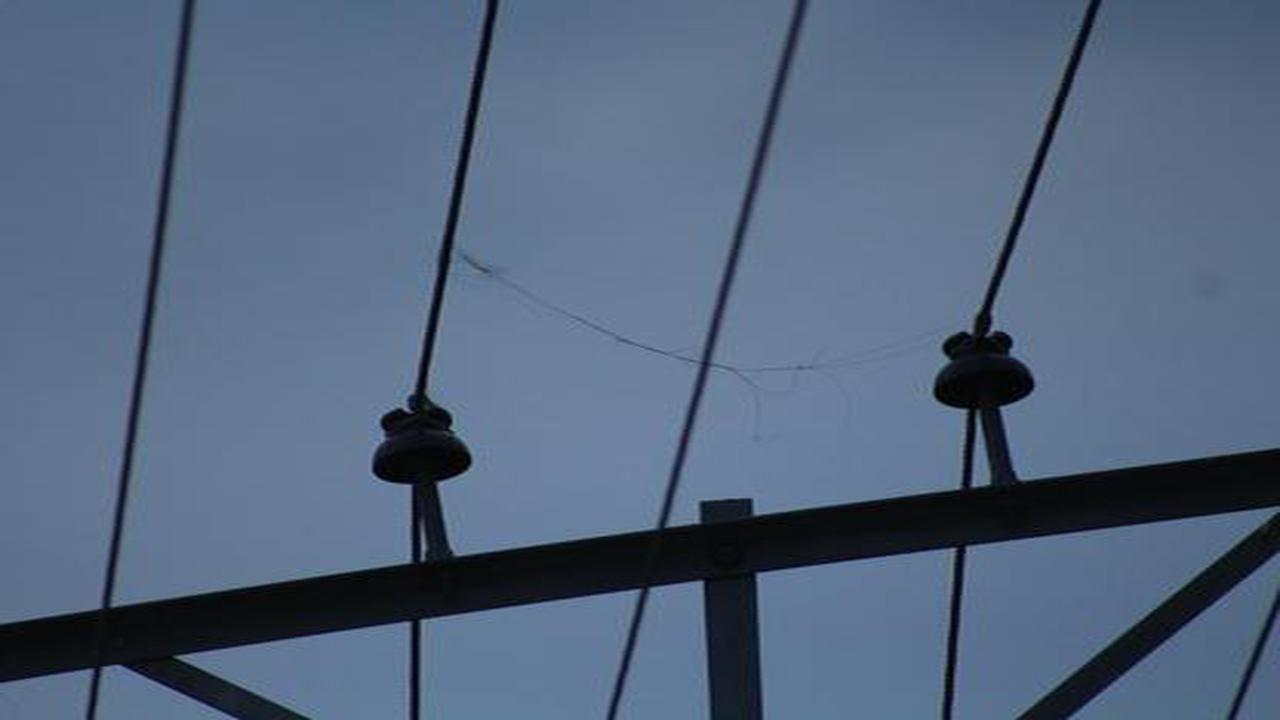insulator_pin: (930, 326, 1045, 419), (369, 398, 476, 490)
